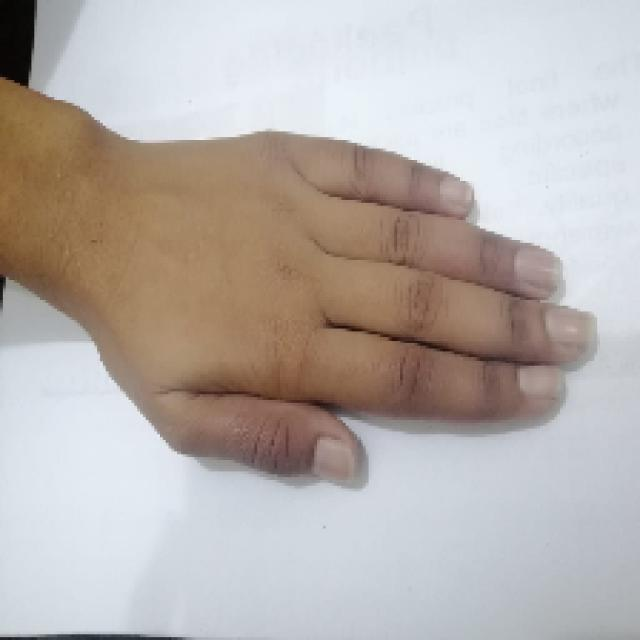Nail: (545, 306, 598, 348), (515, 246, 561, 289), (314, 437, 357, 481), (519, 366, 564, 397), (439, 176, 473, 204)
